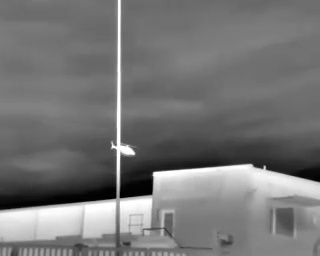HELICOPTER: (107, 138, 141, 163)
